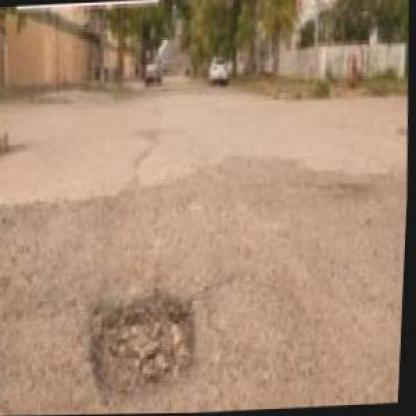pothole: (87, 286, 204, 402)
